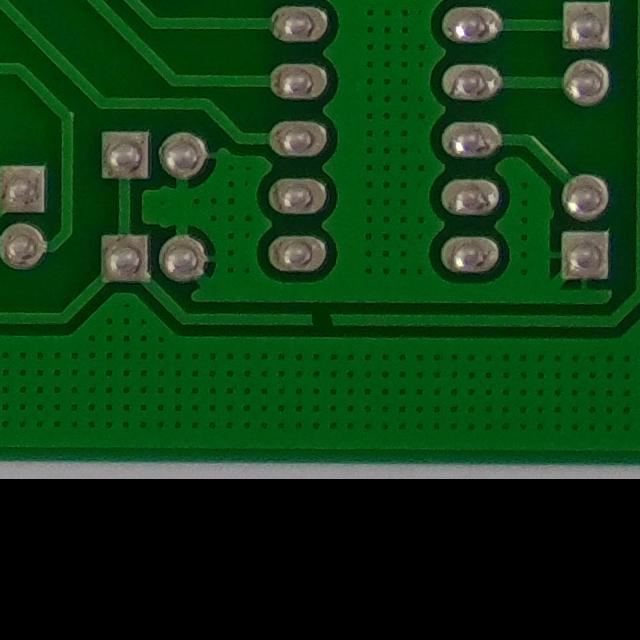open_circuit: (300, 305, 341, 335)
